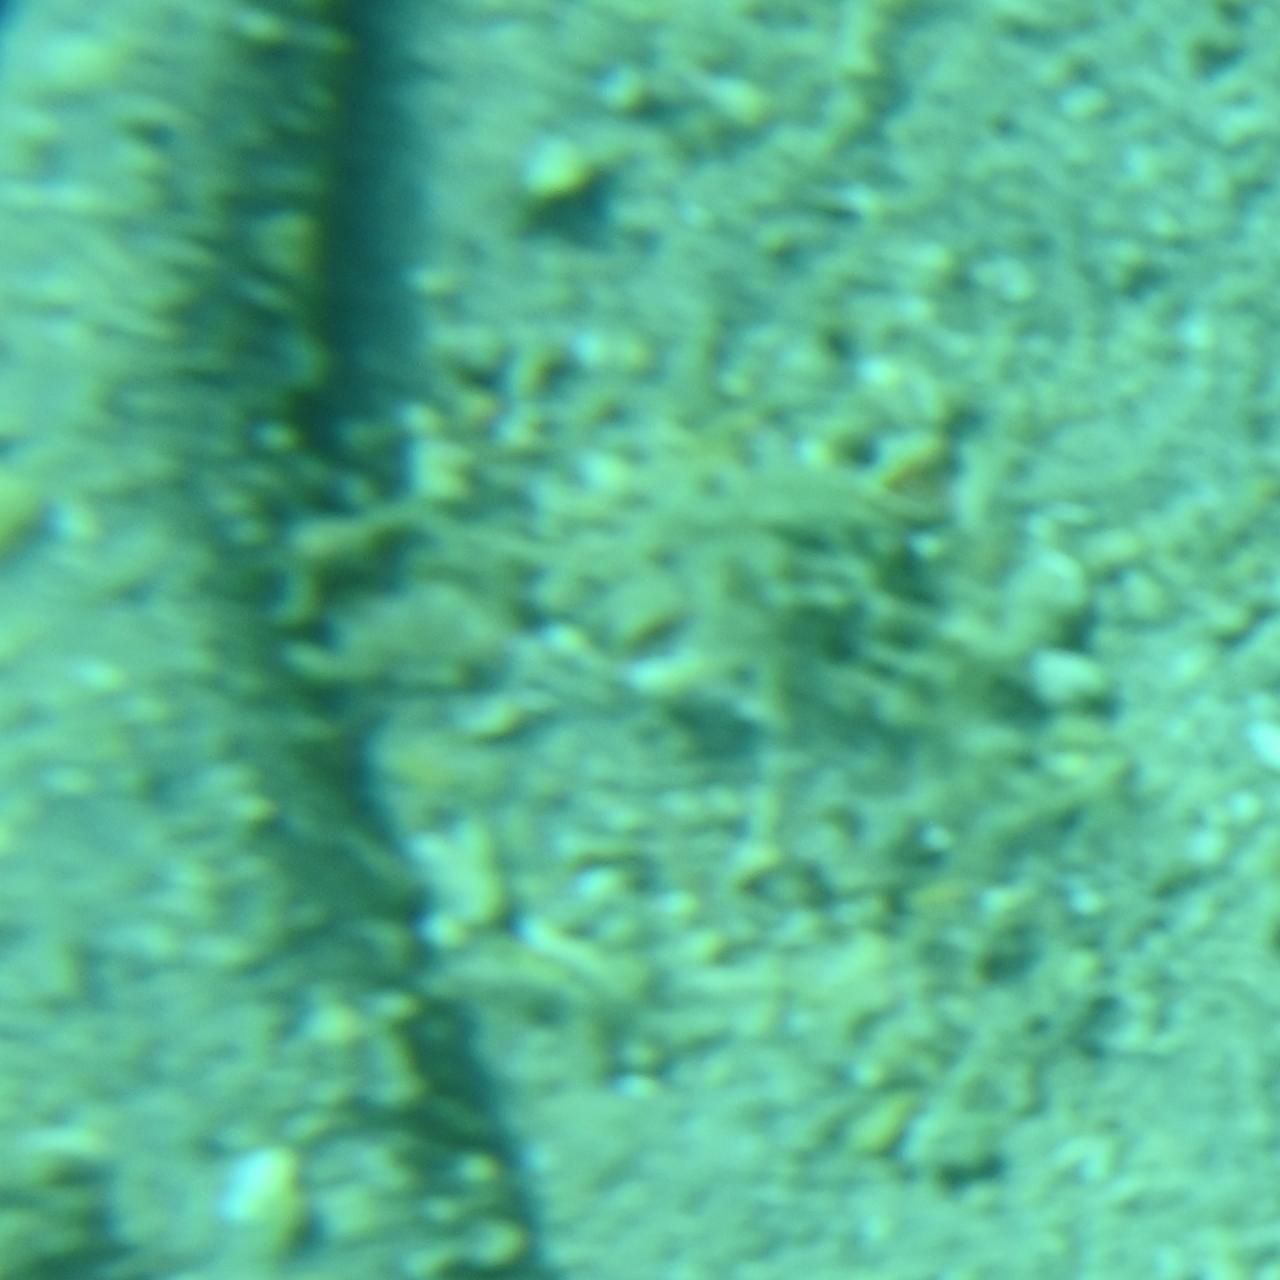Holothuria tubulosa: (0, 0, 566, 1280)
